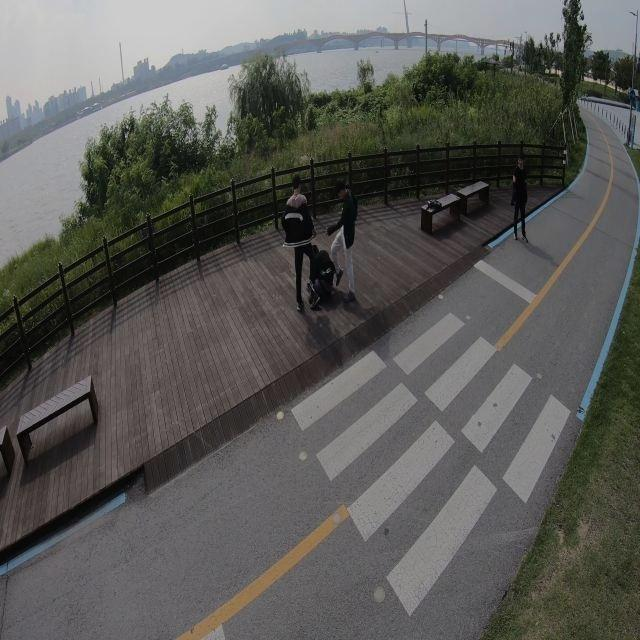fight: (281, 179, 357, 314)
non-fight: (507, 155, 530, 242)
